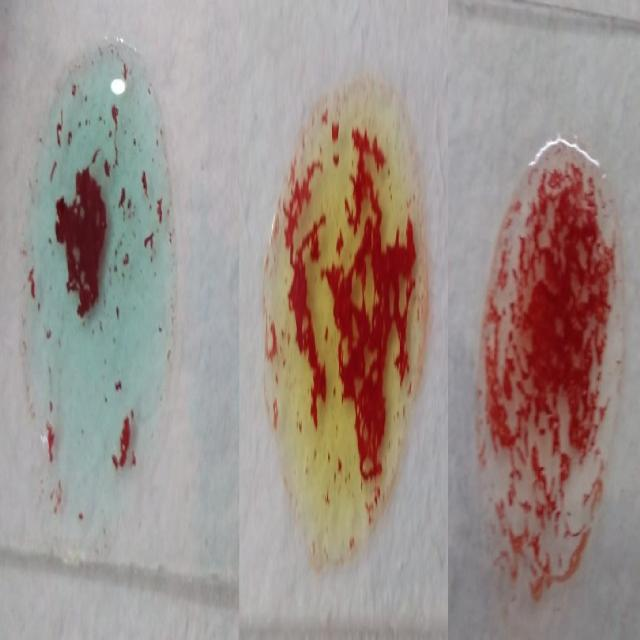A: (22, 26, 168, 530)
B: (262, 69, 424, 568)
D: (474, 128, 623, 606)
